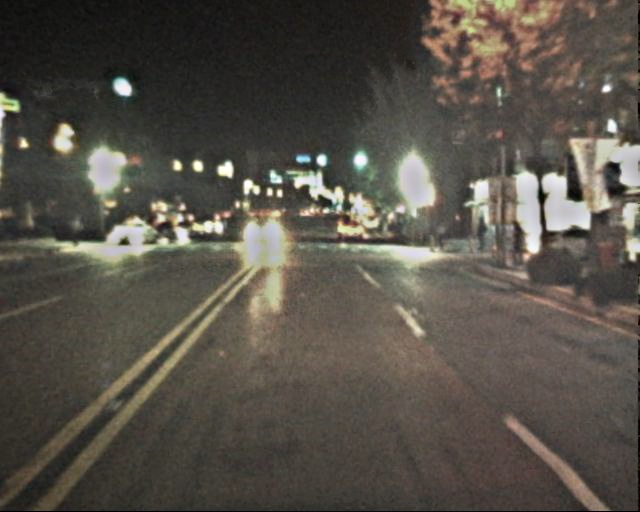person: (508, 219, 528, 268), (473, 216, 488, 253)
